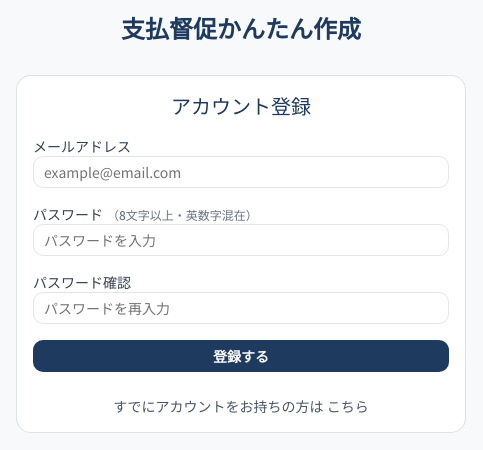
Test: RegisterPage › 正しいメール・パスワードで登録すると「確認メールを送信しました」が表示される
Type "test@example.com" into the field labelled "メールアドレス". click: (241, 172)
box: [33, 156, 449, 188]
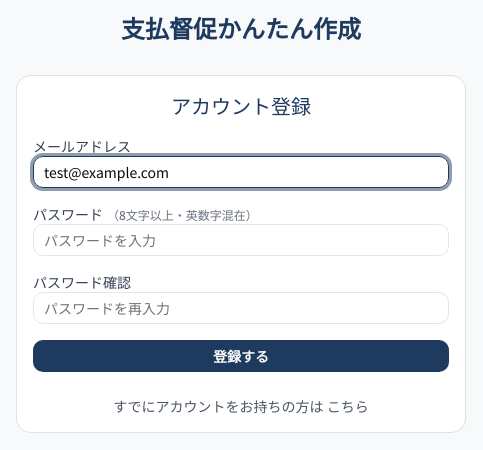
Type "Password1" into the password field with placeholder "パスワードを入力". click: (241, 240)
box: [33, 224, 449, 256]
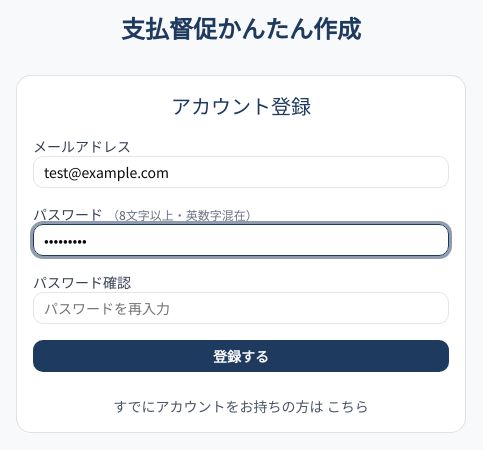
Type "Password1" into the password field with placeholder "パスワードを再入力". click: (241, 308)
box: [33, 292, 449, 324]
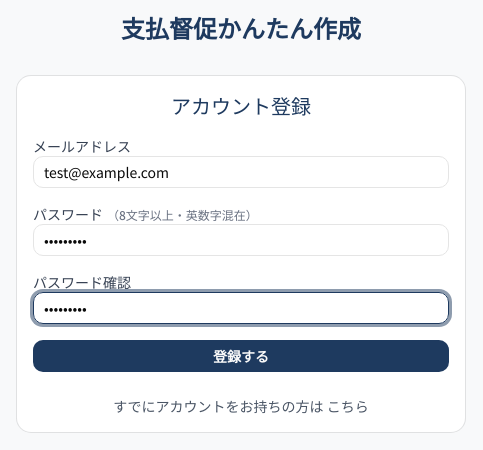
Click the button "登録する". click: (241, 356)
box: [33, 340, 449, 372]
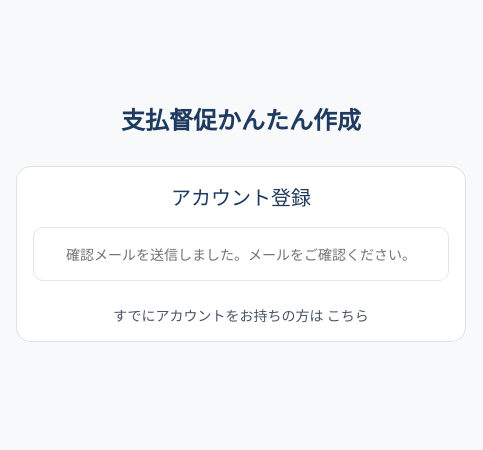
Expected: the text "確認メールを送信しました。メールをご確認ください。" is shown, [66, 244, 416, 264]
